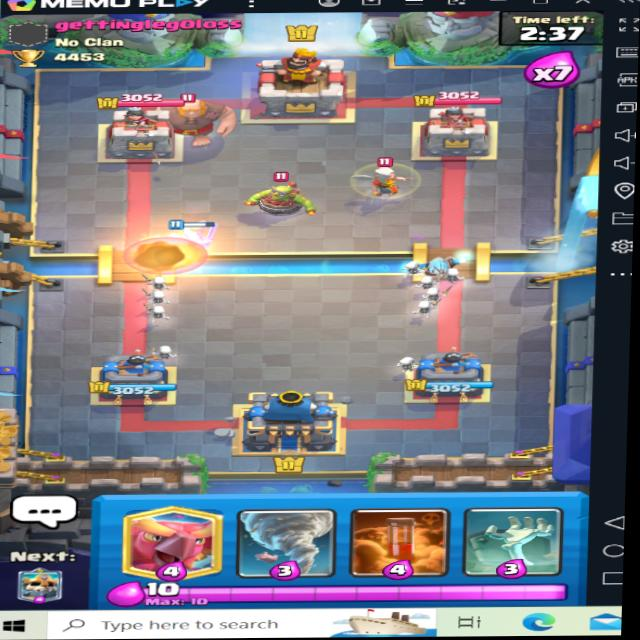battle-healer: (338, 155, 424, 209)
giant: (151, 90, 243, 146)
goblin-demolisher: (244, 167, 319, 220)
